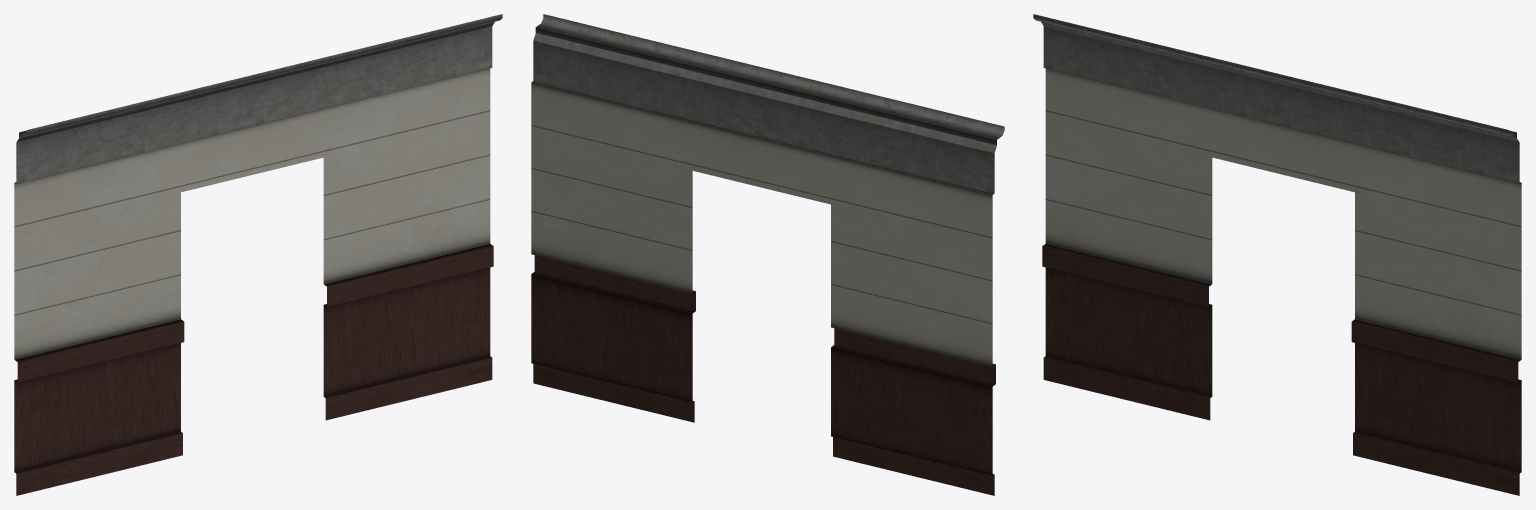
File: Wall 6 Door A.fbx
The picture shows the model from 3 angles, left to right: view 1: azimuth 30°, elevation 25°; view 2: azimuth 150°, elevation 25°; view 3: azimuth 330°, elevation 25°; orthographic projection. The views are drawn at different scales.
Visible parts, largest first — view 1: Wall_6_Door_A; view 2: Wall_6_Door_A; view 3: Wall_6_Door_A.
Part boxes in pixels (x1,y1,x2,y2): Wall_6_Door_A: (14, 14, 502, 495); Wall_6_Door_A: (531, 14, 1004, 495); Wall_6_Door_A: (1033, 14, 1521, 495).
Size of the model in its own units: 400 by 300 by 18.12.
